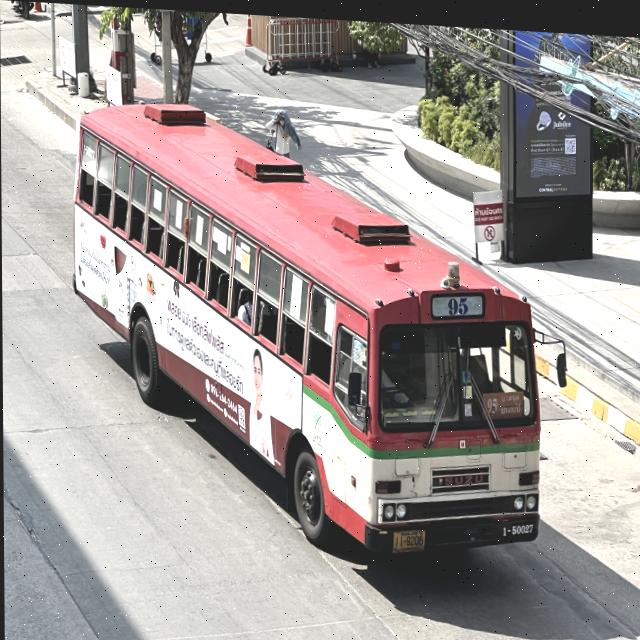BMTA-bus: (71, 100, 542, 554)
Bus Line Number: (427, 283, 487, 319)
Bus Side Number: (500, 513, 535, 535)
Destination Sign: (479, 383, 524, 415)
